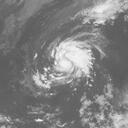cyclone: (40, 32, 104, 90)
